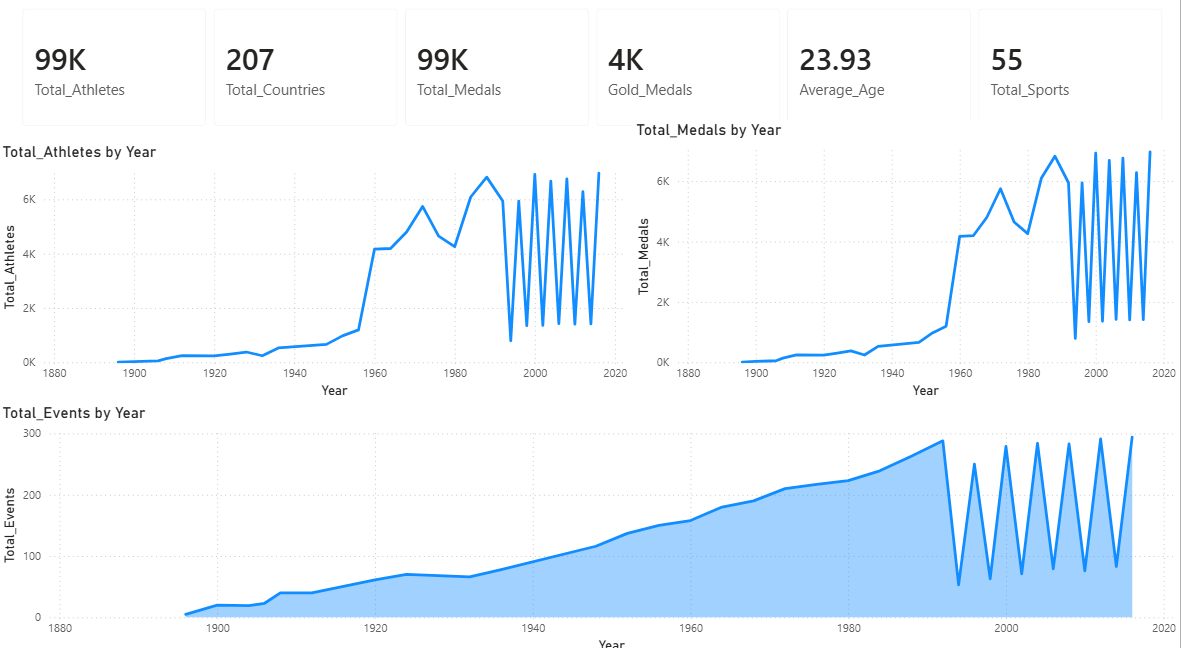

This screenshot's page, from the dashboard's own definition file:
{"tool":"powerbi","page":{"name":"Page 1","canvas":[1280,720],"ordinal":0},"visuals":[{"type":"cardVisual","fields":{"Data":["athlete_events.Total_Athletes","athlete_events.Total_Countries","athlete_events.Total_Medals","athlete_events.Gold_Medals","athlete_events.Average_Age","athlete_events.Total_Sports"]},"box":[9.5,0,1270.8,161],"z":0},{"type":"lineChart","fields":{"Y":["athlete_events.Total_Athletes"],"Category":["athlete_events.Year"]},"box":[0,161,686.2,282.9],"z":1000},{"type":"lineChart","fields":{"Y":["athlete_events.Total_Medals"],"Category":["athlete_events.Year"]},"box":[686.2,138,594.1,305.9],"z":4000},{"type":"areaChart","fields":{"Y":["athlete_events.Total_Events"],"Category":["athlete_events.Year"]},"box":[0,443.9,1280.3,276.1],"z":13000}]}

Visuals, with their boxes in screenshot pixels (x1, y1, x2, y2), scaled from the page's 1280x720 canvas onto the 1181x648 screenshot:
cardVisual - athlete_events.Total_Athletes x athlete_events.Total_Countries: 9,0,1180,145
lineChart - athlete_events.Total_Athletes x athlete_events.Year: 0,145,633,400
lineChart - athlete_events.Total_Medals x athlete_events.Year: 633,124,1180,400
areaChart - athlete_events.Total_Events x athlete_events.Year: 0,400,1180,647
